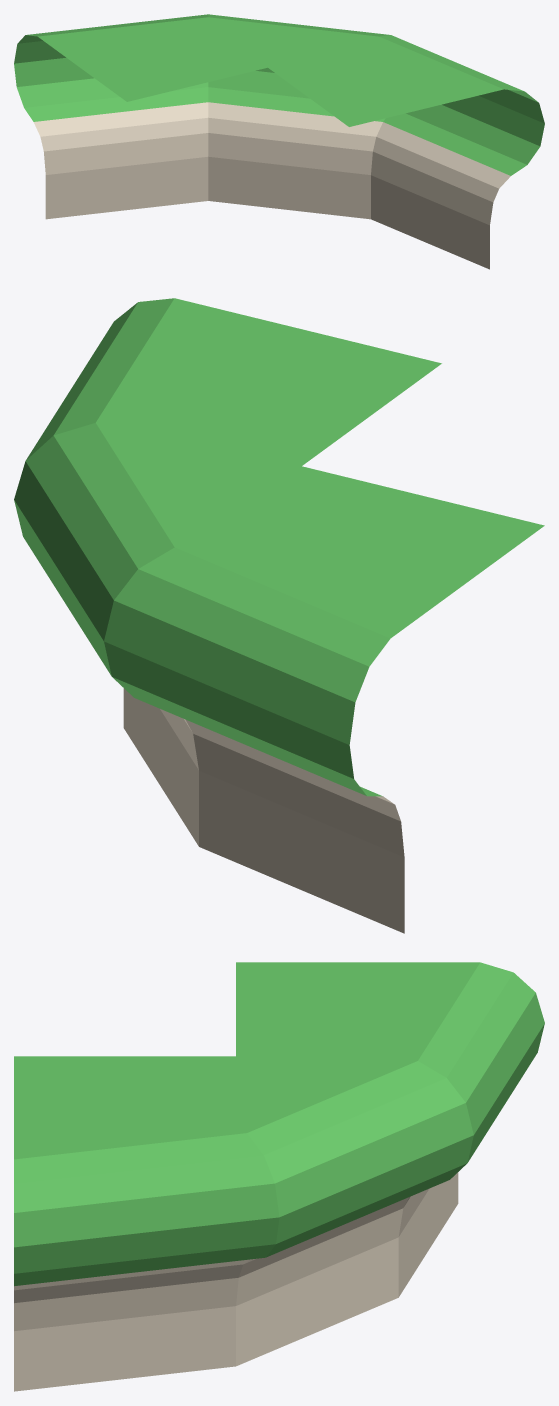
File: Escarpment_Terrain_Corner_Outer_3x3_Top.glb
3 views of the same model, one above another, from view 1: azimuth 30°, elevation 25°; view 2: azimuth 150°, elevation 25°; view 3: azimuth 270°, elevation 25° (orthographic). The views are drawn at different scales.
Parts seen in each view (by area): view 1: Escarpment_Terrain_Corner_Outer_3x3_Top; view 2: Escarpment_Terrain_Corner_Outer_3x3_Top; view 3: Escarpment_Terrain_Corner_Outer_3x3_Top.
Boxes of the visible parts, <box> form: Escarpment_Terrain_Corner_Outer_3x3_Top: <box>14,14,544,269</box>; Escarpment_Terrain_Corner_Outer_3x3_Top: <box>14,298,544,933</box>; Escarpment_Terrain_Corner_Outer_3x3_Top: <box>14,962,544,1391</box>.
Bounding box in the file's own units: 1.27 × 0.636 × 1.27.
